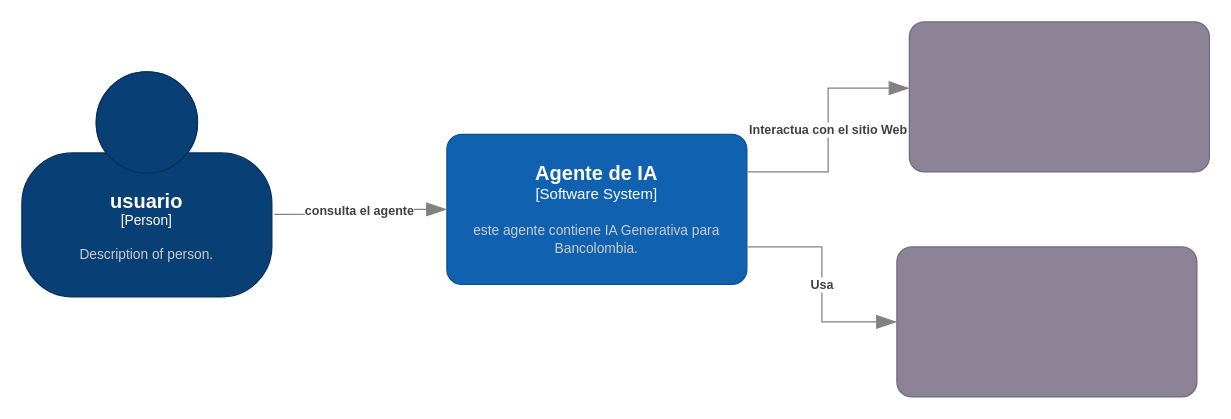
This 1231x419 diagram has some shape labels left out. The centre of each missing label's shape, as x and y in pixels:
LLM [Software System] Description of external software system.: point 1046,321
sitio web Bancolombia [Software System] Description of external software system.: point 1058,96
